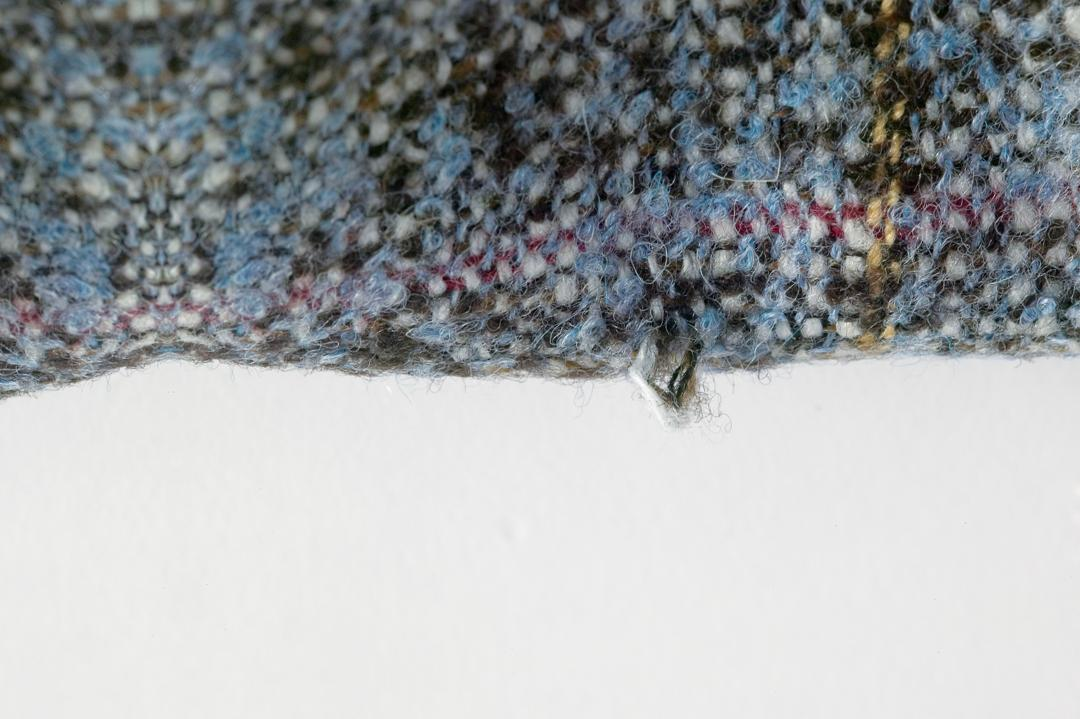snag: (621, 323, 732, 433)
